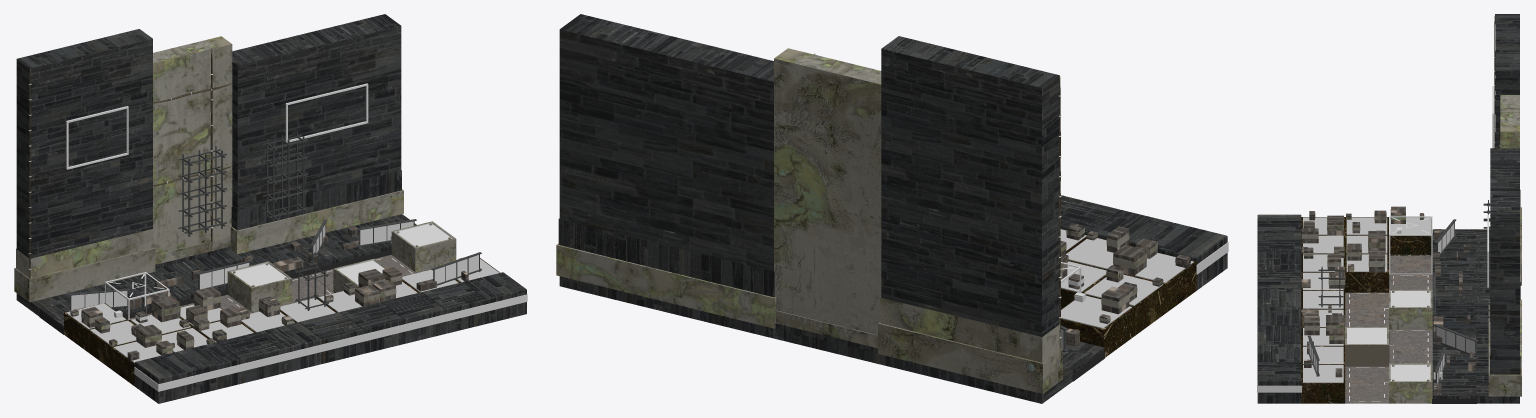
File: level 1.fbx
The picture shows the model from 3 angles, left to right: view 1: azimuth 30°, elevation 25°; view 2: azimuth 150°, elevation 25°; view 3: azimuth 270°, elevation 25°; orthographic projection. The views are drawn at different scales.
Parts seen in each view (by area): view 1: Obj_000370, Obj_000001, Obj_000204, Obj_000372, Obj_000376, Obj_000199, Obj_000374, Obj_000373, Obj_000369, Obj_000200, Obj_000371, Obj_000089 (+27 smaller); view 2: Obj_000370, Obj_000001, Obj_000372, Obj_000376, Obj_000374, Obj_000373, Obj_000200, Obj_000204, Obj_000371, Obj_000205, Obj_000375, Obj_000218 (+8 smaller); view 3: Obj_000204, Obj_000001, Obj_000199, Obj_000370, Obj_000200, Obj_000376, Obj_000372, Obj_000096, Obj_000080, Obj_000088, Obj_000171, Obj_000141 (+32 smaller).
Boxes of the visible parts, bbox=[...] form: Obj_000370: bbox=[16, 29, 152, 258]; Obj_000001: bbox=[232, 14, 401, 210]; Obj_000204: bbox=[135, 272, 526, 403]; Obj_000372: bbox=[153, 36, 232, 254]; Obj_000376: bbox=[230, 189, 403, 254]; Obj_000199: bbox=[40, 219, 416, 329]; Obj_000374: bbox=[14, 247, 155, 302]; Obj_000373: bbox=[231, 170, 401, 230]; Obj_000369: bbox=[134, 294, 527, 391]; Obj_000200: bbox=[16, 214, 408, 316]; Obj_000371: bbox=[16, 228, 153, 278]; Obj_000089: bbox=[415, 238, 456, 271]; Obj_000370: bbox=[881, 36, 1059, 336]; Obj_000001: bbox=[559, 14, 773, 271]; Obj_000372: bbox=[774, 48, 881, 335]; Obj_000376: bbox=[556, 243, 775, 328]; Obj_000374: bbox=[878, 322, 1062, 393]; Obj_000373: bbox=[558, 218, 774, 297]; Obj_000200: bbox=[559, 276, 1072, 403]; Obj_000204: bbox=[1060, 195, 1227, 290]; Obj_000371: bbox=[880, 297, 1060, 362]; Obj_000205: bbox=[1060, 296, 1134, 357]; Obj_000375: bbox=[775, 310, 877, 348]; Obj_000218: bbox=[1061, 295, 1131, 328]; Obj_000204: bbox=[1257, 214, 1301, 403]; Obj_000001: bbox=[1490, 148, 1519, 356]; Obj_000199: bbox=[1432, 229, 1476, 398]; Obj_000370: bbox=[1495, 14, 1519, 148]; Obj_000200: bbox=[1476, 229, 1519, 403]; Obj_000376: bbox=[1488, 299, 1521, 396]; Obj_000372: bbox=[1500, 95, 1519, 148]; Obj_000096: bbox=[1389, 307, 1432, 329]; Obj_000080: bbox=[1345, 344, 1388, 366]; Obj_000088: bbox=[1389, 381, 1432, 403]; Obj_000171: bbox=[1345, 254, 1388, 292]; Obj_000141: bbox=[1301, 365, 1344, 403].
Size of the model in its own units: 908 by 563 by 605.
